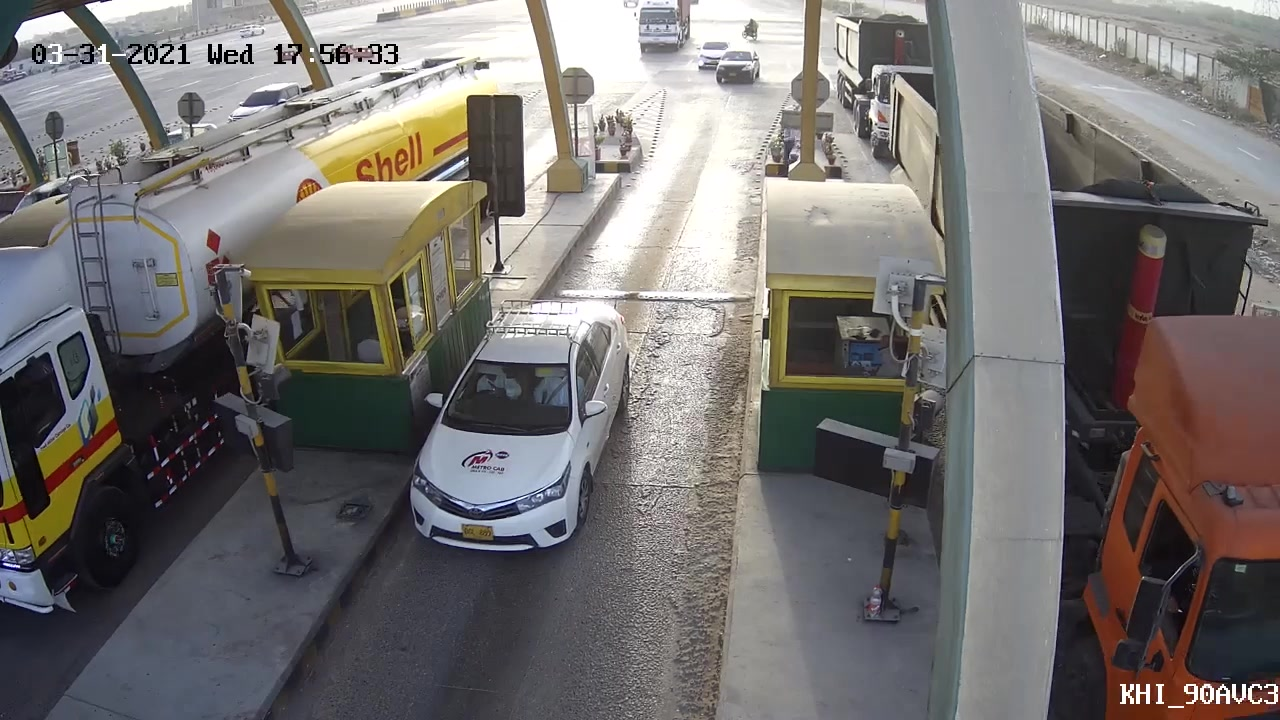F1: (403, 294, 630, 560)
